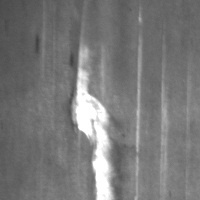scratches: (70, 40, 119, 199), (156, 36, 173, 199), (132, 35, 145, 199)
